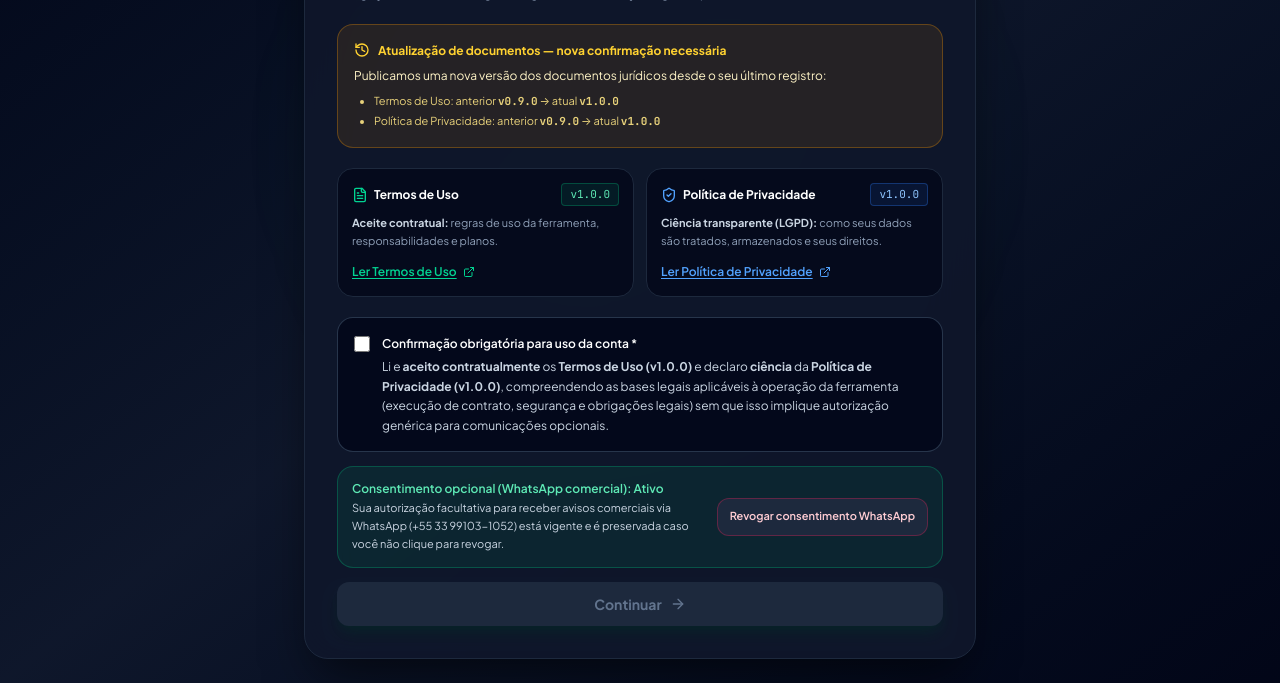
Fase 2.4 — Registro de Aceite, Versionamento e Consentimento Seguro › 10. [Fase 2.4.1 / Simulado + UI] Concessão e revogação de WhatsApp preservam histórico, invalidam autorização antiga após revogação, dispensam novo aceite contr
(page scrolled)
Expected: the element with test id "consent-optional-whatsapp-active-box" is shown, [337,466,943,568]
Click the button with test id "consent-revoke-whatsapp-button" at (822, 517), box [717,498,928,536]
(page scrolled)
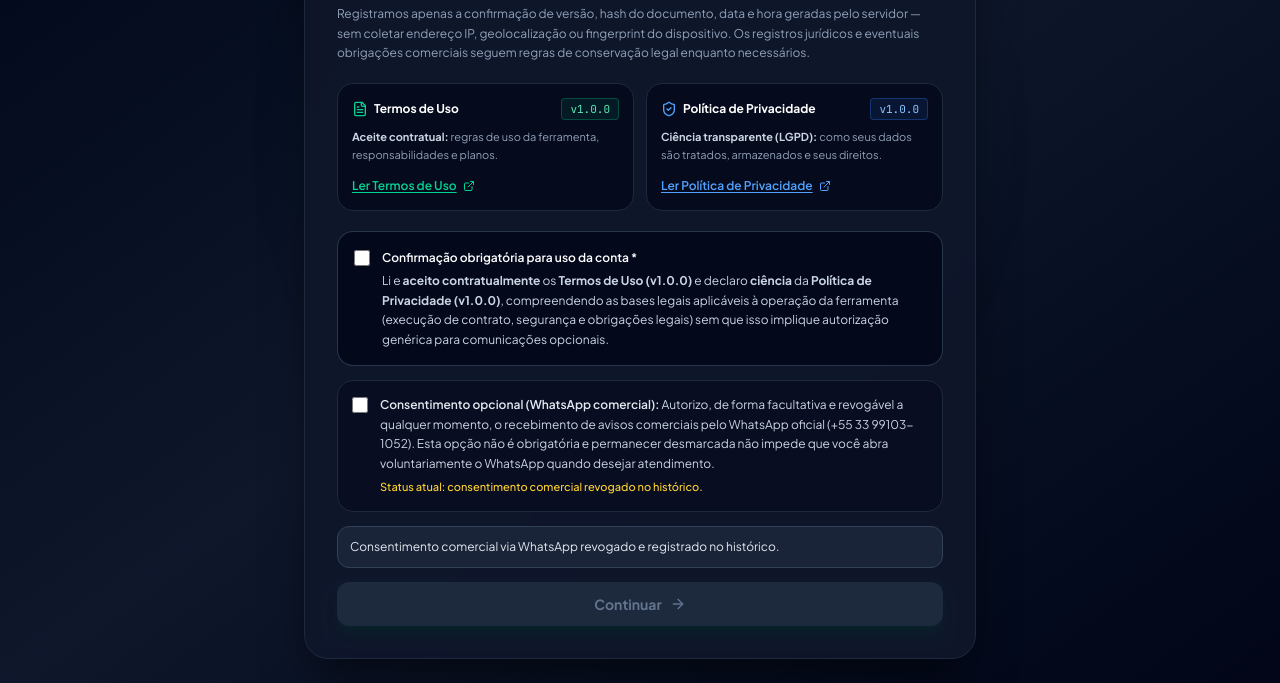
Expected: the text "Status atual: consentimento comercial revogado no histórico." is shown, [380,478,703,496]
